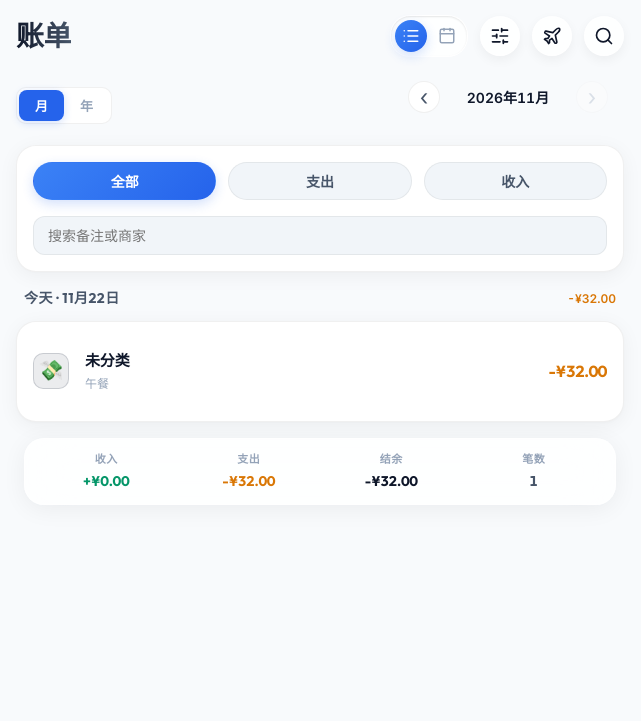
Test case: TransactionsPage 长按删除 › 点「撤销」后交易回到列表，窗口结束也不会删除
The image size is (641, 721).
Press the mouse on the text "午餐" at (51, 371), box [33,351,607,390]
Wait 700 ms
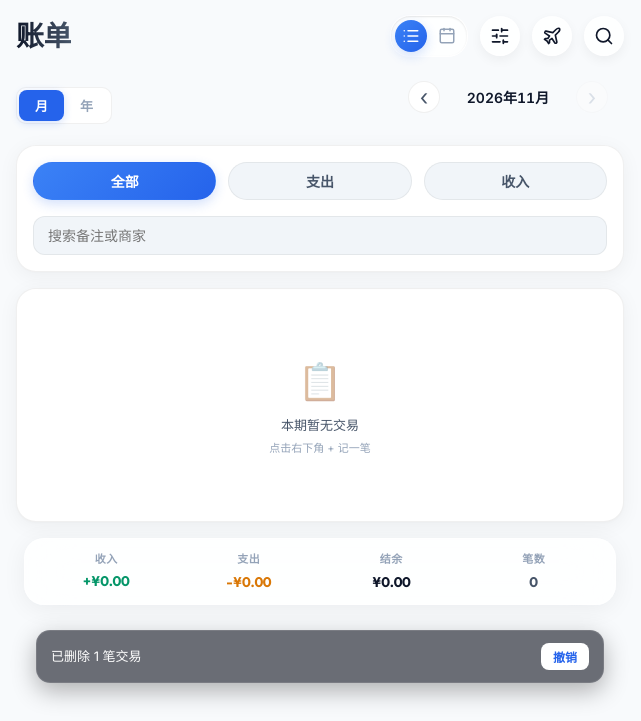
Click the button "撤销".
click(565, 656)  # box [541,643,589,670]
Wait 5000 ms
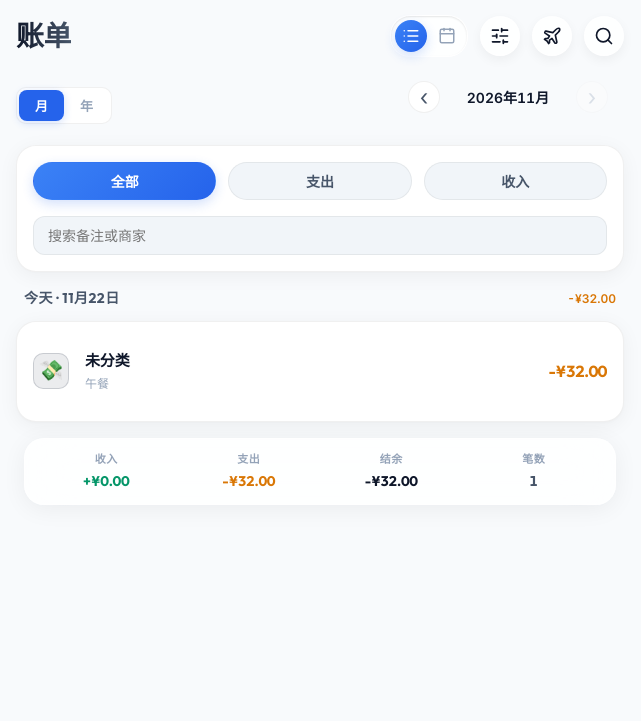
Expected: the text "午餐" is shown, [85,376,109,390]
